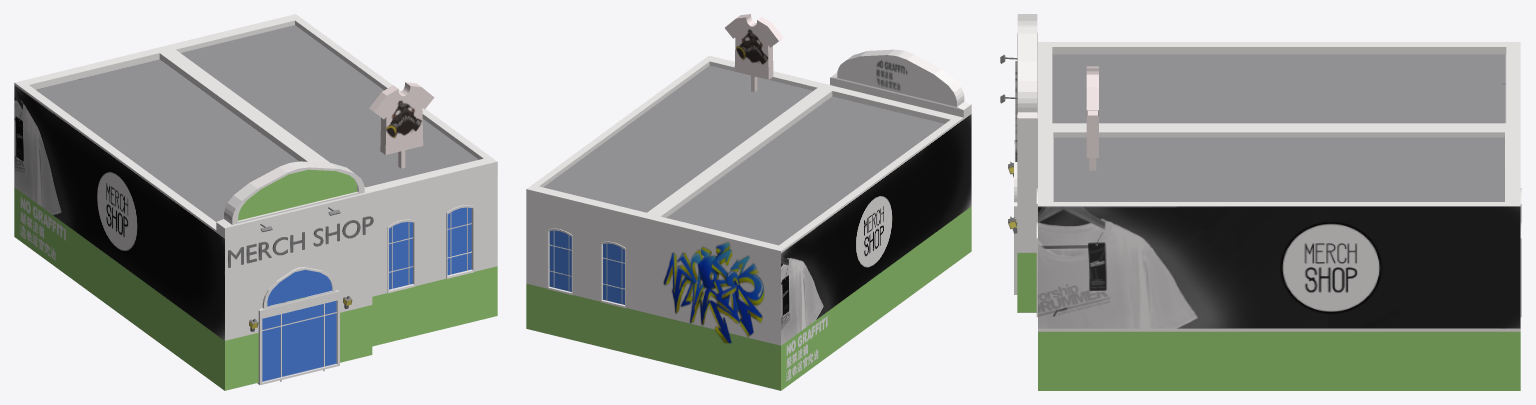
The model's file is Merch.fbx.
3 renders of one model, left to right at view 1: azimuth 30°, elevation 25°; view 2: azimuth 150°, elevation 25°; view 3: azimuth 270°, elevation 25°, orthographic. The views are drawn at different scales.
Visible parts, largest first — view 1: Cube.021, Plane.001, Cube.022, Text.008; view 2: Cube.021, Plane.001, Cube.001; view 3: Cube.021, Plane.001.
Boxes of the visible parts, x1,y1,x2,y2 form: Cube.021: (14, 14, 497, 390); Plane.001: (369, 82, 434, 168); Cube.022: (387, 205, 473, 293); Text.008: (228, 216, 373, 267); Cube.021: (526, 49, 971, 390); Plane.001: (725, 14, 783, 92); Cube.001: (547, 228, 625, 308); Cube.021: (1014, 14, 1520, 390); Plane.001: (1086, 66, 1098, 170).
Size of the model in its own units: 466 by 373 by 625.
